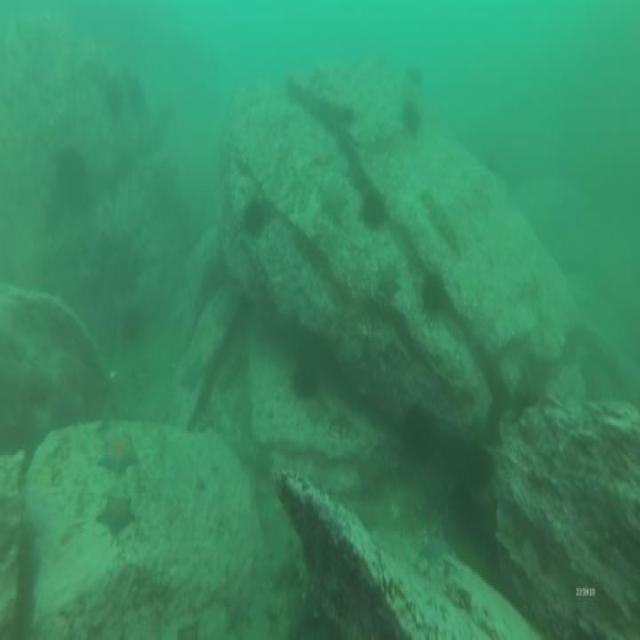echinus: (359, 190, 386, 230), (468, 446, 492, 490), (422, 272, 446, 313), (292, 357, 316, 394), (241, 204, 265, 238), (401, 98, 419, 131)
holothurian: (421, 192, 462, 254)
starfish: (99, 428, 138, 474), (100, 488, 132, 534), (322, 183, 348, 224), (421, 531, 449, 566), (374, 262, 399, 299)
